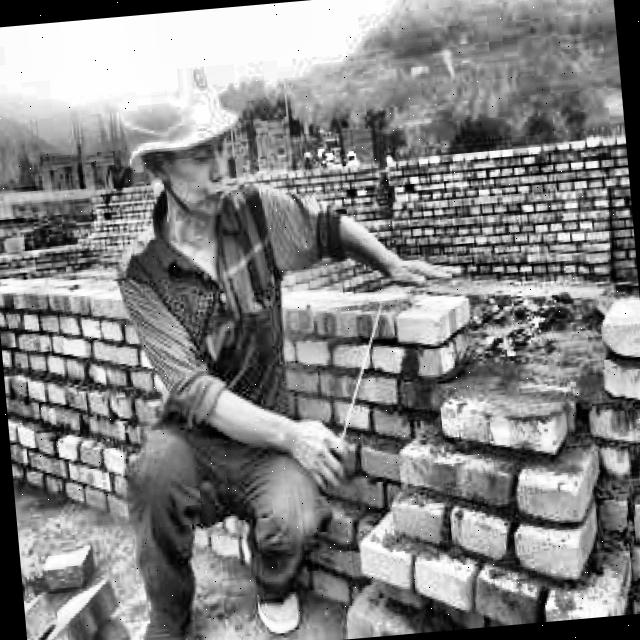helmet: (113, 42, 241, 218)
